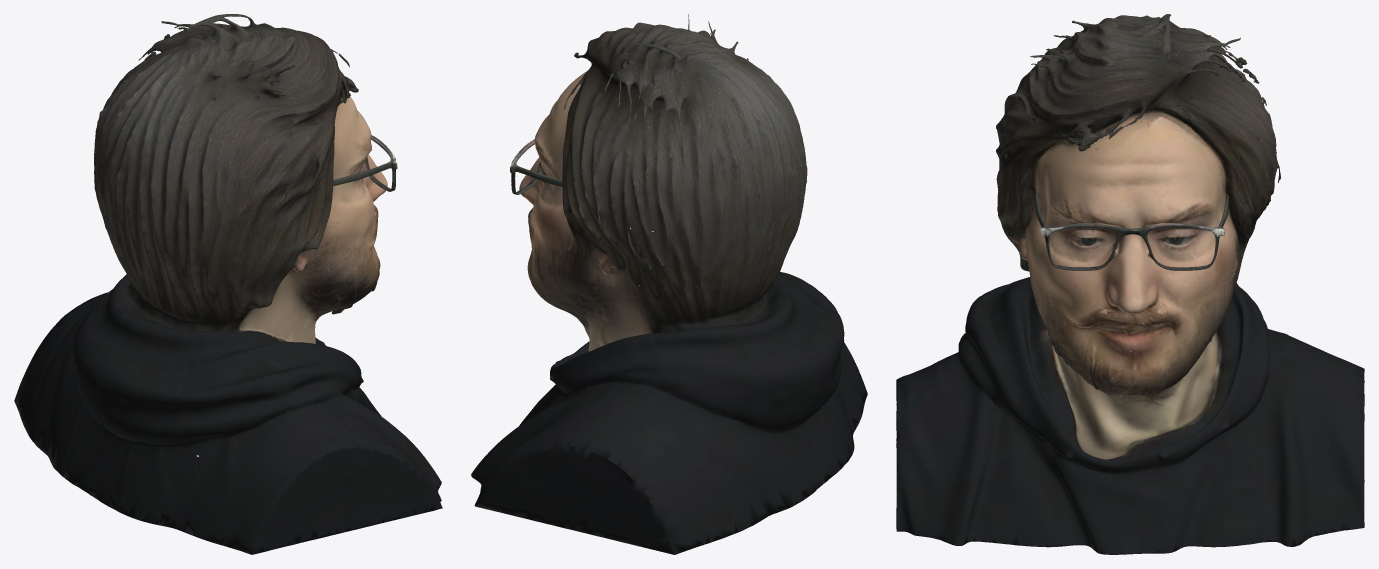
File: head-opt-25.glb
The picture shows the model from 3 angles, left to right: view 1: azimuth 30°, elevation 25°; view 2: azimuth 150°, elevation 25°; view 3: azimuth 270°, elevation 25°; orthographic projection. The views are drawn at different scales.
Parts seen in each view (by area): view 1: tripo_node_9642ca34-5f64-47df-b357-bc4084fc347b; view 2: tripo_node_9642ca34-5f64-47df-b357-bc4084fc347b; view 3: tripo_node_9642ca34-5f64-47df-b357-bc4084fc347b.
Boxes of the visible parts, x1,y1,x2,y2 form: tripo_node_9642ca34-5f64-47df-b357-bc4084fc347b: (14,14,442,554); tripo_node_9642ca34-5f64-47df-b357-bc4084fc347b: (471,14,867,554); tripo_node_9642ca34-5f64-47df-b357-bc4084fc347b: (896,14,1364,554).
Size of the model in its own units: 0.7499 by 0.9967 by 0.9249.
1 material, 1 textured.
